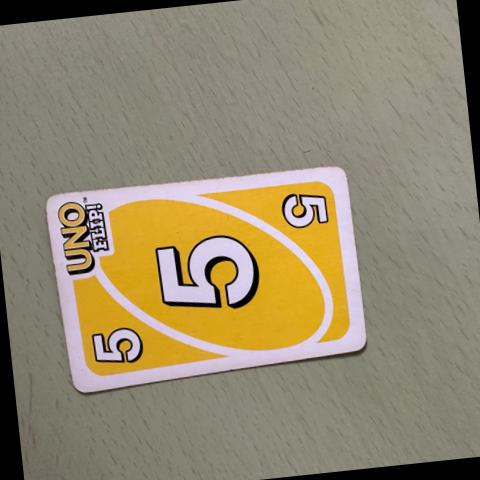lyellow-5: (77, 307, 154, 379)
